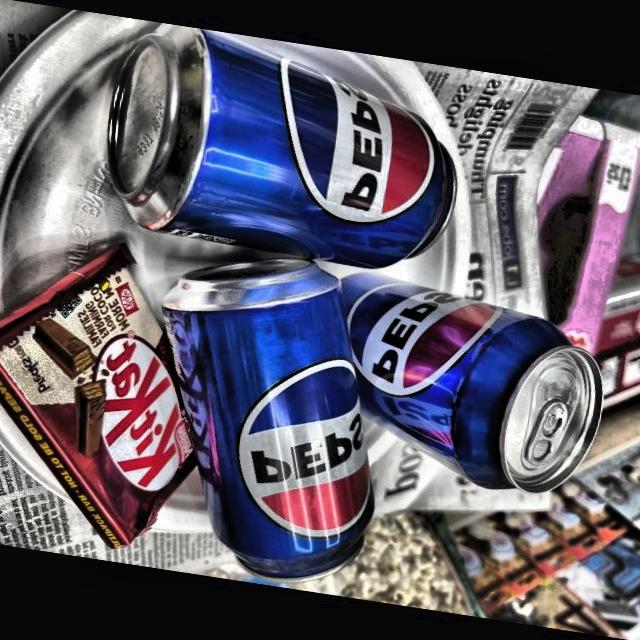Unknown: (8, 243, 190, 529)
pepsi-can: (111, 36, 456, 257), (164, 262, 374, 578), (344, 266, 598, 493)
